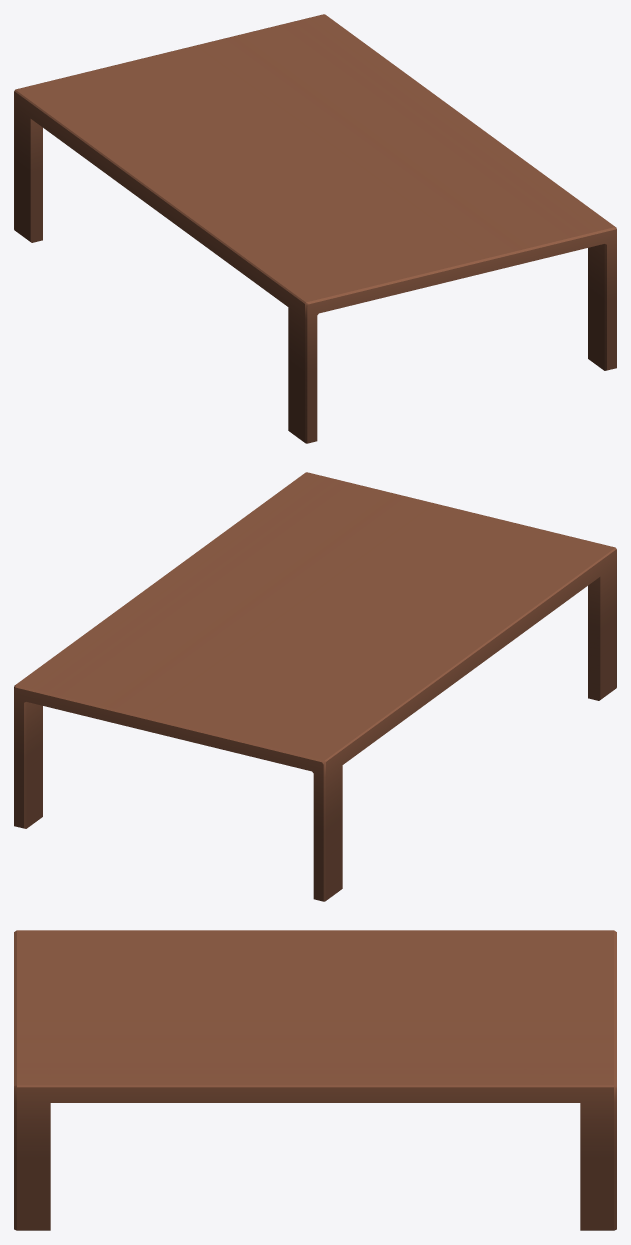
The model's file is Table_Large.fbx.
3 renders of one model, top to bottom at view 1: azimuth 30°, elevation 25°; view 2: azimuth 150°, elevation 25°; view 3: azimuth 270°, elevation 25°, orthographic. The views are drawn at different scales.
Visible parts, largest first — view 1: Box007; view 2: Box007; view 3: Box007.
Boxes of the visible parts, x1,y1,x2,y2 form: Box007: (14,14,616,443); Box007: (14,472,616,901); Box007: (14,930,616,1230).
Bounding box in the file's own units: 207 × 89.81 × 338.
